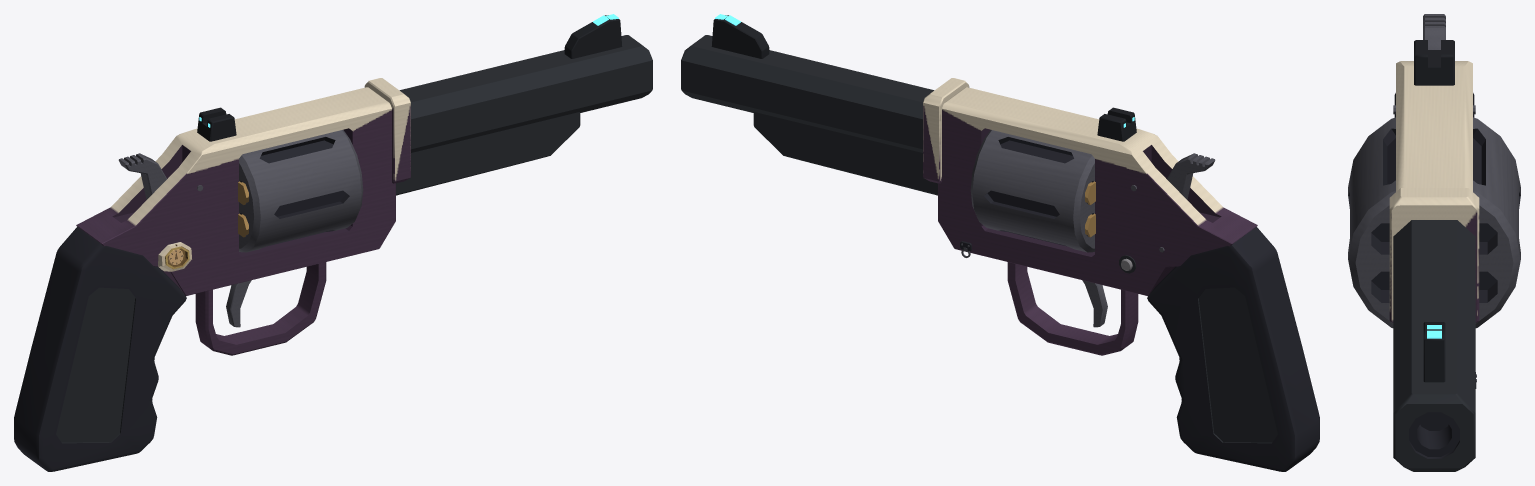
The model's file is Sheriff_Sundial_v01.fbx.
The picture shows the model from 3 angles, left to right: view 1: azimuth 30°, elevation 25°; view 2: azimuth 150°, elevation 25°; view 3: azimuth 270°, elevation 25°; orthographic projection. The views are drawn at different scales.
Visible parts, largest first — view 1: Sheriff_Frame, Sheriff_Grip, Sheriff_Barrel, Sheriff_Cylinder, Sheriff_Sights, Sheriff_Hammer, Sheriff_Trigger; view 2: Sheriff_Frame, Sheriff_Grip, Sheriff_Barrel, Sheriff_Cylinder, Sheriff_Sights, Sheriff_Hammer, Sheriff_Trigger; view 3: Sheriff_Barrel, Sheriff_Cylinder, Sheriff_Frame, Sheriff_Sights, Sheriff_Hammer, Sheriff_Neon.
Part boxes in pixels (<box>): Sheriff_Frame: <box>76,78,410,355</box>; Sheriff_Grip: <box>14,227,186,471</box>; Sheriff_Barrel: <box>396,35,652,195</box>; Sheriff_Cylinder: <box>239,130,363,252</box>; Sheriff_Sights: <box>197,15,622,141</box>; Sheriff_Hammer: <box>118,153,166,199</box>; Sheriff_Trigger: <box>226,280,251,327</box>; Sheriff_Frame: <box>923,78,1257,355</box>; Sheriff_Grip: <box>1147,227,1319,471</box>; Sheriff_Barrel: <box>681,35,937,195</box>; Sheriff_Cylinder: <box>970,130,1094,252</box>; Sheriff_Sights: <box>711,15,1136,141</box>; Sheriff_Hammer: <box>1167,153,1215,199</box>; Sheriff_Trigger: <box>1082,280,1107,327</box>; Sheriff_Barrel: <box>1393,220,1475,471</box>; Sheriff_Cylinder: <box>1348,117,1520,328</box>; Sheriff_Frame: <box>1389,61,1479,322</box>; Sheriff_Sights: <box>1414,40,1454,382</box>; Sheriff_Hammer: <box>1423,14,1445,49</box>; Sheriff_Neon: <box>1427,325,1441,338</box>.
Bounding box in the file's own units: 176 × 85.05 × 28.6.
15 materials, 12 textured.
